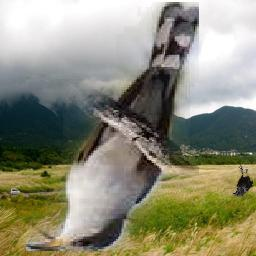Crow: (233, 165, 254, 197)
Cuckoo: (27, 3, 200, 252)
